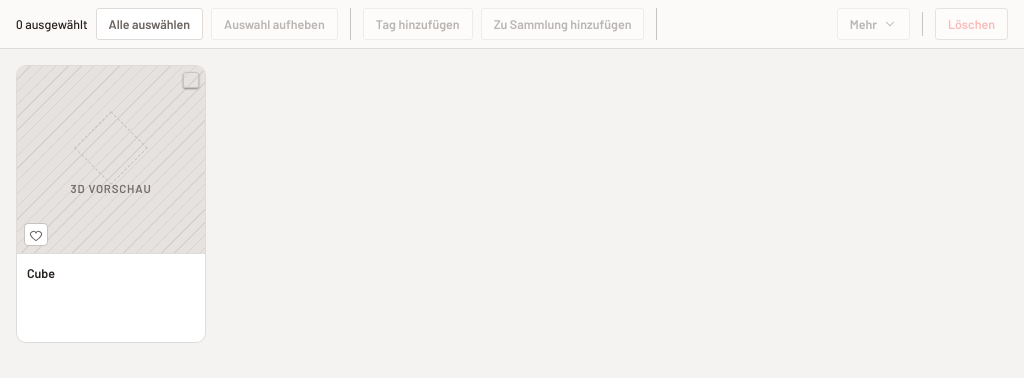
Test case: starts the floating detail panel below the bar in a narrow window so the bar is not covered
Click the text "Cube". click: (41, 273)
box: x1=27 y1=265 x2=55 y2=281
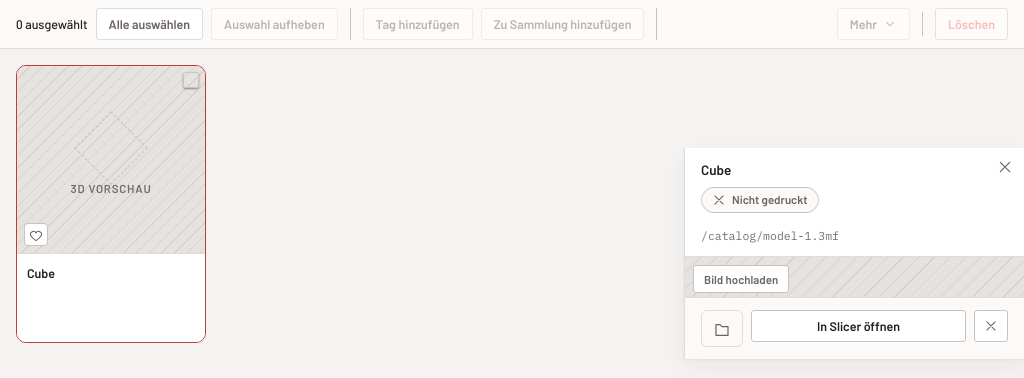
Click the button "Alle auswählen". click: (149, 24)
box: x1=96 y1=8 x2=203 y2=40
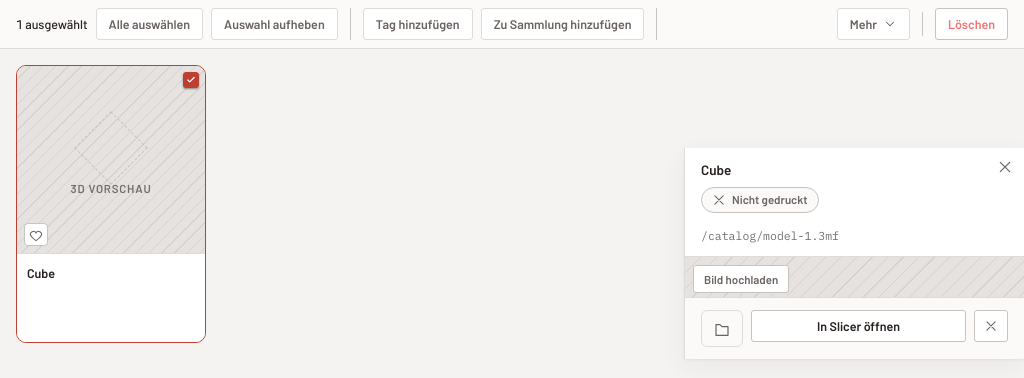
Click the button "Mehr". click: (873, 24)
box: x1=837 y1=8 x2=910 y2=40
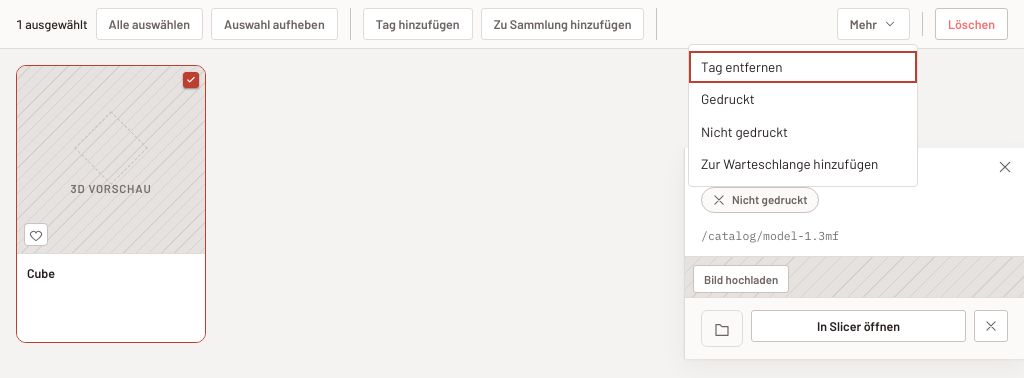
Expected: the menu item "Gedruckt" is shown, x1=689 y1=83 x2=917 y2=116
